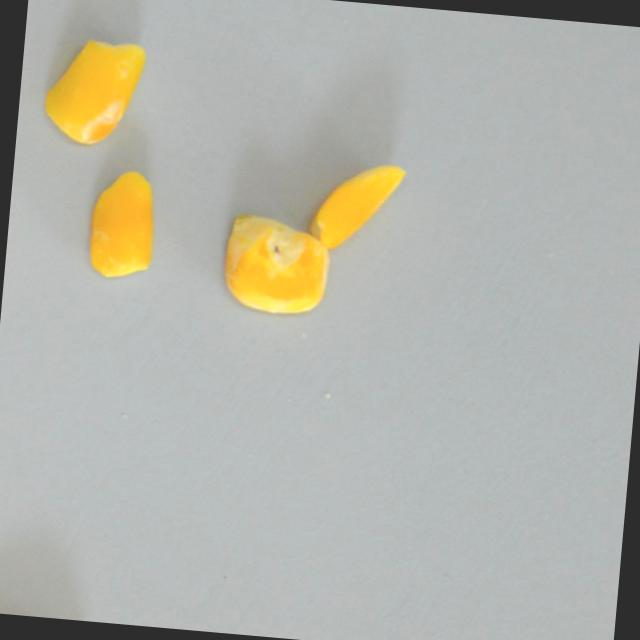estandar: (307, 153, 410, 254), (80, 167, 160, 284)
pelicula: (36, 32, 148, 152)
punto_negro: (216, 209, 332, 317)
